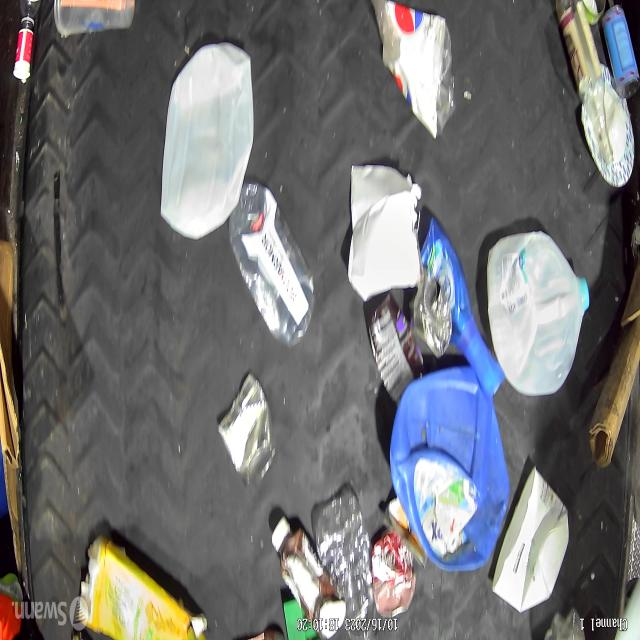can: (217, 371, 277, 489), (370, 528, 416, 618), (601, 6, 640, 99), (381, 495, 428, 569)
milk_jug: (160, 40, 254, 240), (486, 231, 590, 396)
non_white_jug: (389, 366, 510, 574), (77, 536, 206, 640)
plastic_bottle: (228, 179, 315, 349), (313, 488, 374, 638)
